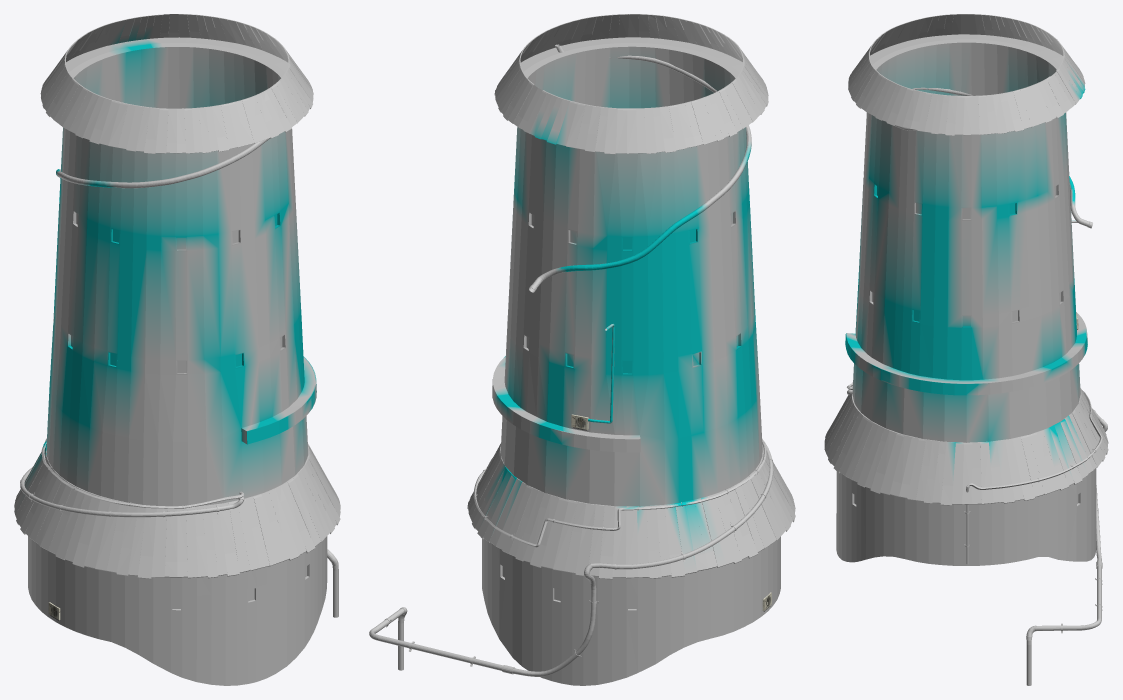
File: SM_ENV_KNVLLG_AreaD_Tower_A_Part02.mo.fbx
3 views of the same model, side by side, from view 1: azimuth 30°, elevation 25°; view 2: azimuth 150°, elevation 25°; view 3: azimuth 270°, elevation 25° (orthographic). The views are drawn at different scales.
Visible parts, largest first — view 1: SM_ENV_KNVLLG_AreaD_Tower_A_Part02.mo; view 2: SM_ENV_KNVLLG_AreaD_Tower_A_Part02.mo; view 3: SM_ENV_KNVLLG_AreaD_Tower_A_Part02.mo.
Boxes of the visible parts, box(x1,y1,x2,y2) form: SM_ENV_KNVLLG_AreaD_Tower_A_Part02.mo: box(14, 14, 340, 685); SM_ENV_KNVLLG_AreaD_Tower_A_Part02.mo: box(369, 14, 795, 685); SM_ENV_KNVLLG_AreaD_Tower_A_Part02.mo: box(824, 14, 1108, 685).
Bounding box in the file's own units: 24.71 × 43.86 × 20.65.
